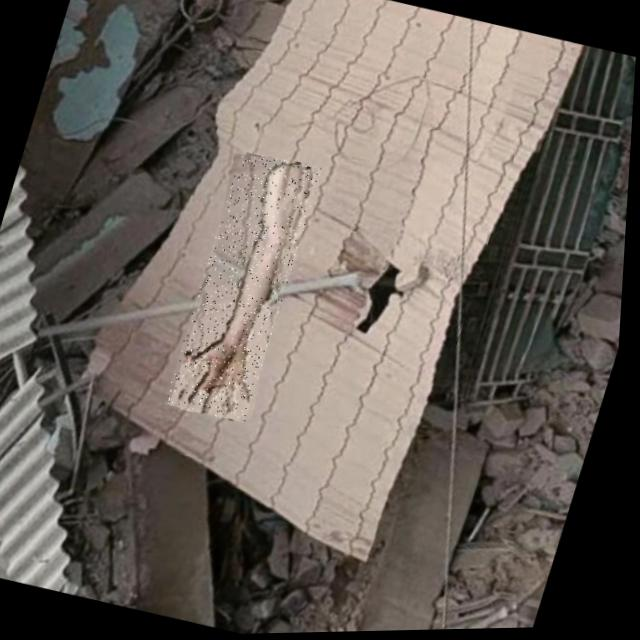Person in Rubble: (168, 148, 325, 425)
